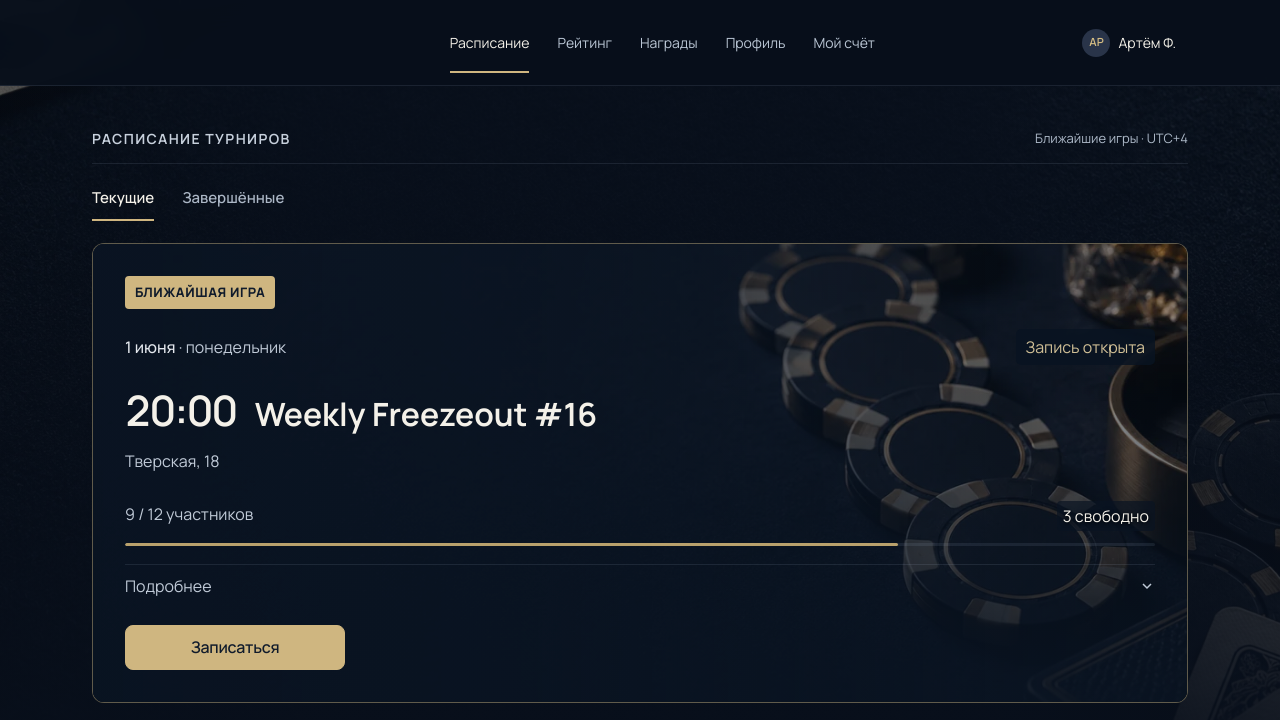
Scenario: registration › signs the player up and reflects it on the card
This screenshot has width=1280, height=720.
Click the button "Записаться".
click(235, 648)  # box [125,625,345,670]
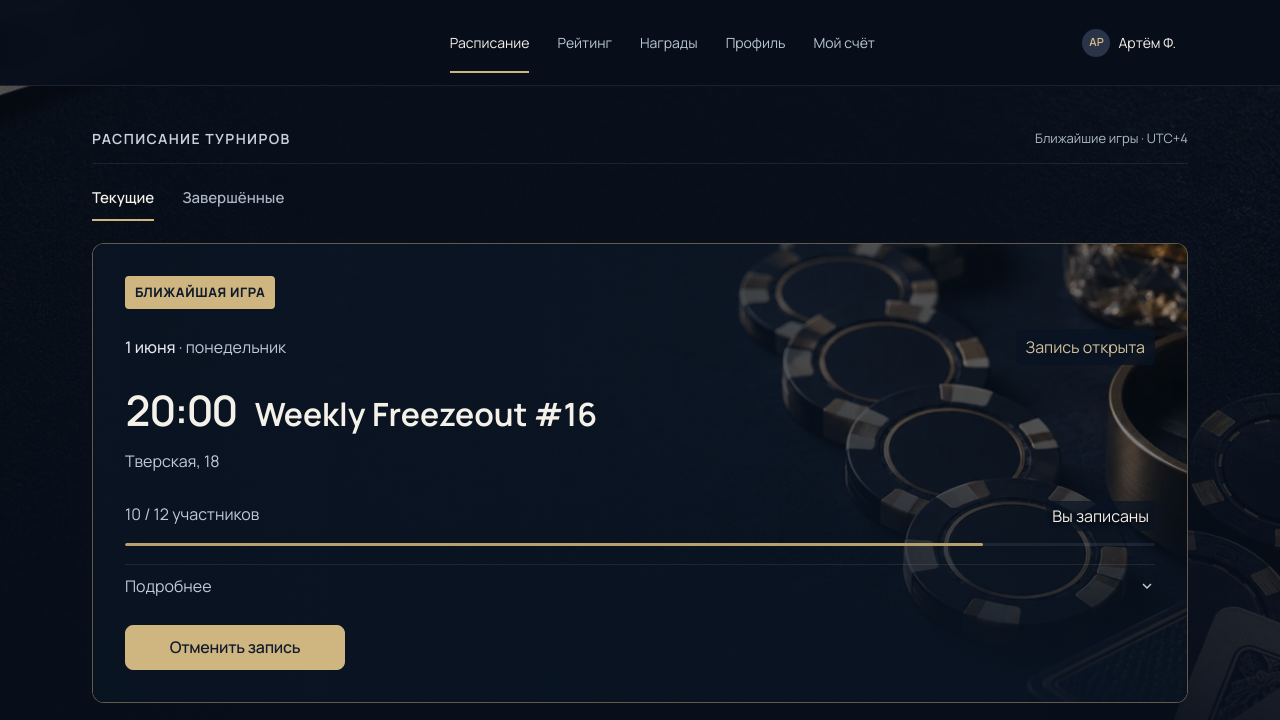
Result: the text "Вы записаны" is shown at [1046,501,1155,531]
Result: the button "Отменить запись" is shown at [125,625,345,670]
